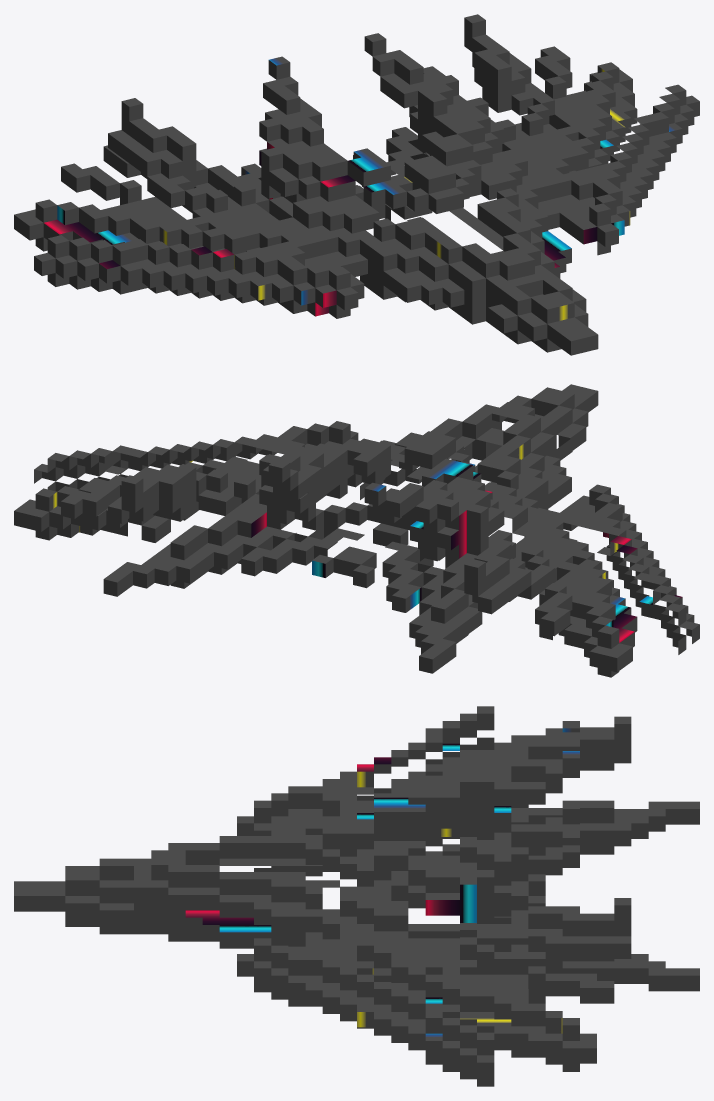
File: Caza_optimizado.fbx
The picture shows the model from 3 angles, top to bottom: view 1: azimuth 30°, elevation 25°; view 2: azimuth 150°, elevation 25°; view 3: azimuth 270°, elevation 25°; orthographic projection. The views are drawn at different scales.
Parts seen in each view (by area): view 1: Caza enemigo.001; view 2: Caza enemigo.001; view 3: Caza enemigo.001.
Boxes of the visible parts, x1,y1,x2,y2 form: Caza enemigo.001: (14, 14, 699, 355); Caza enemigo.001: (14, 384, 699, 677); Caza enemigo.001: (14, 706, 699, 1086).
Size of the model in its own units: 4.8 by 0.9 by 4.
